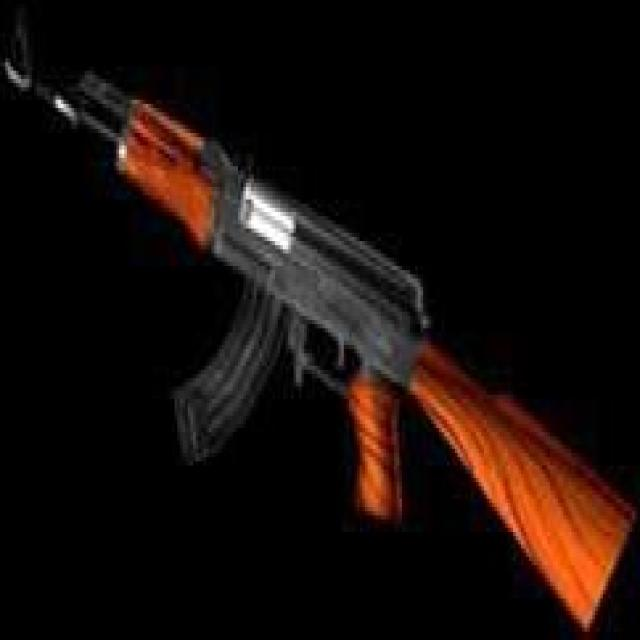Gun: (59, 33, 618, 600)
